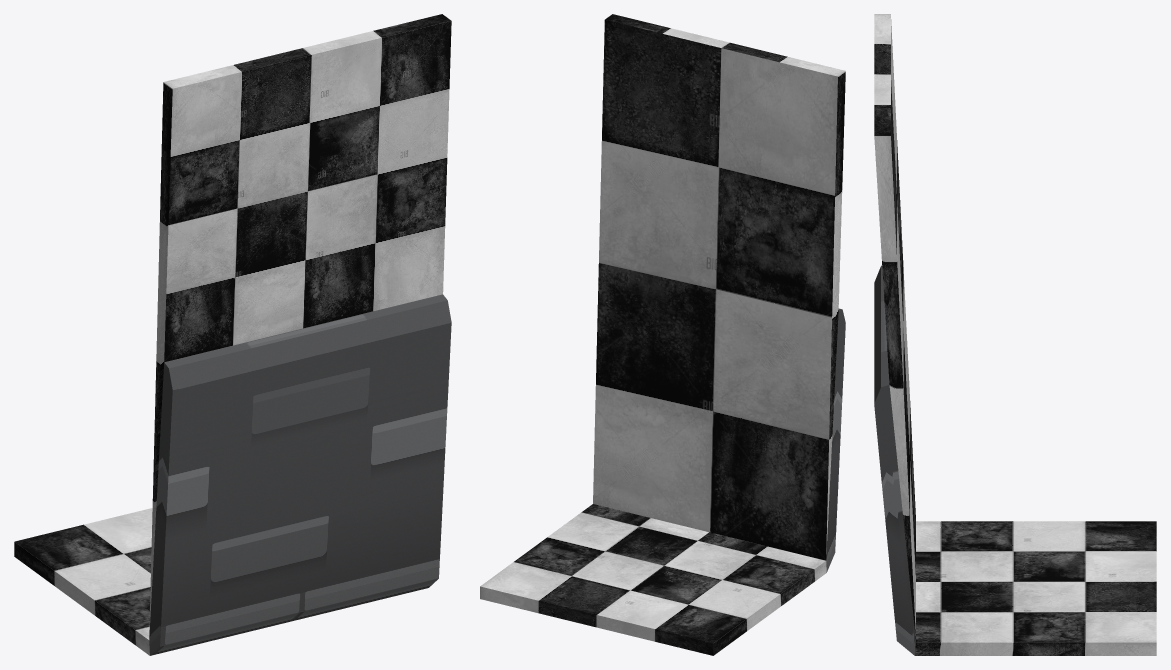
The model's file is building_01_edge_tile.obj.
3 views of the same model, side by side, from view 1: azimuth 30°, elevation 25°; view 2: azimuth 150°, elevation 25°; view 3: azimuth 270°, elevation 25° (orthographic). The views are drawn at different scales.
Parts seen in each view (by area): view 1: edge_Cube.010; view 2: edge_Cube.010; view 3: edge_Cube.010.
Boxes of the visible parts, box(x1,y1,x2,y2) form: edge_Cube.010: box(14, 14, 451, 655); edge_Cube.010: box(480, 14, 845, 655); edge_Cube.010: box(874, 14, 1156, 655).
Bounding box in the file's own units: 2 × 4 × 1.97.
